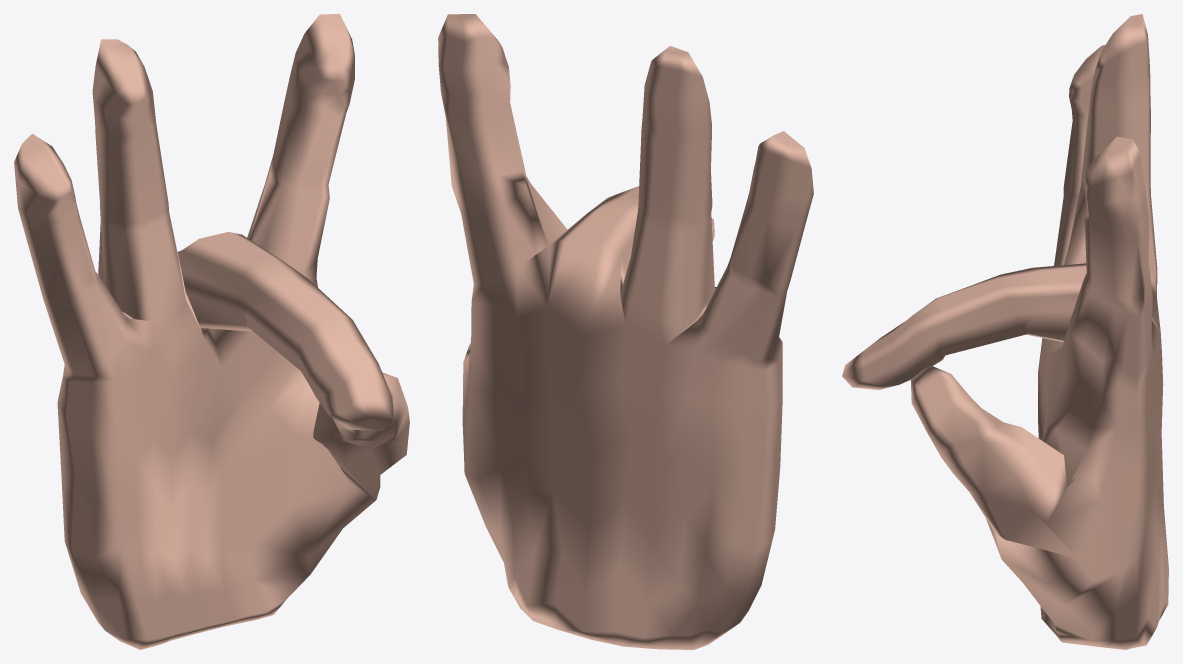
Rendered from MAO_DOENTE.obj.
3 renders of one model, left to right at view 1: azimuth 30°, elevation 25°; view 2: azimuth 150°, elevation 25°; view 3: azimuth 270°, elevation 25°, orthographic. The views are drawn at different scales.
Visible parts, largest first — view 1: mao_dir:mao_dir; view 2: mao_dir:mao_dir; view 3: mao_dir:mao_dir.
Boxes of the visible parts, x1=… form: mao_dir:mao_dir: x1=14, y1=14, x2=409, y2=649; mao_dir:mao_dir: x1=438, y1=14, x2=813, y2=649; mao_dir:mao_dir: x1=842, y1=14, x2=1168, y2=649.
Size of the model in its own units: 153 by 234 by 122.
